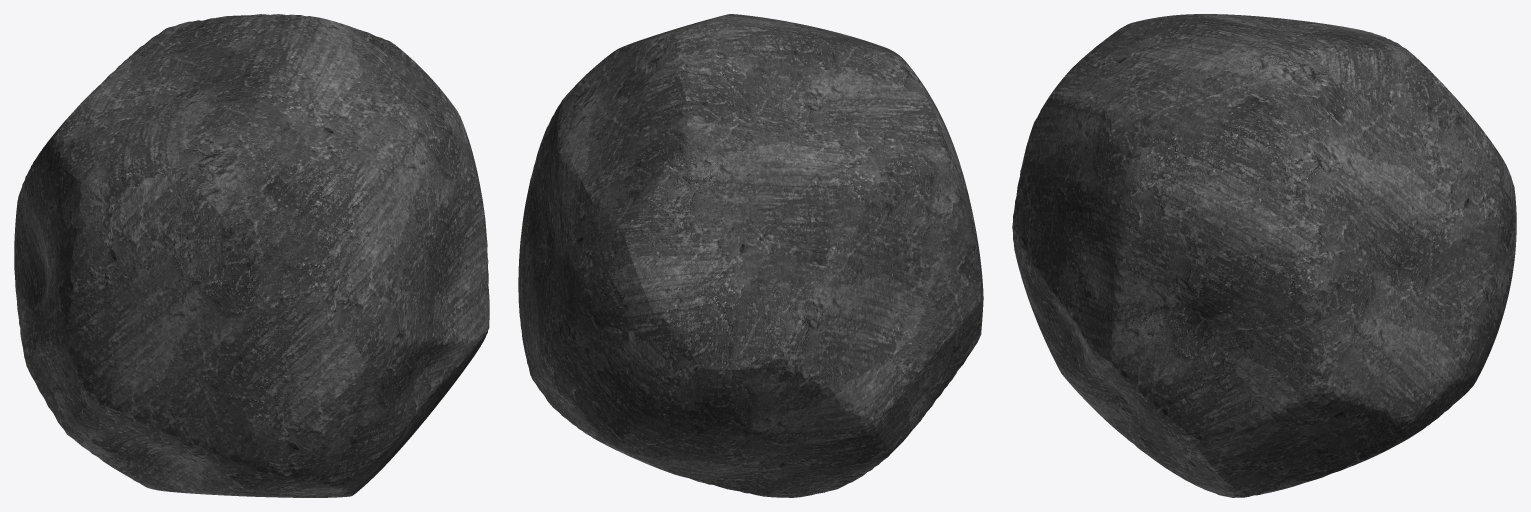
The model's file is Rock object.fbx.
3 views of the same model, side by side, from view 1: azimuth 30°, elevation 25°; view 2: azimuth 150°, elevation 25°; view 3: azimuth 270°, elevation 25° (orthographic). The views are drawn at different scales.
Visible parts, largest first — view 1: Icosphere; view 2: Icosphere; view 3: Icosphere.
Boxes of the visible parts, bbox=[...] form: Icosphere: bbox=[14, 14, 489, 497]; Icosphere: bbox=[518, 14, 983, 497]; Icosphere: bbox=[1012, 14, 1516, 497].
Bounding box in the file's own units: 329 × 330 × 341.
